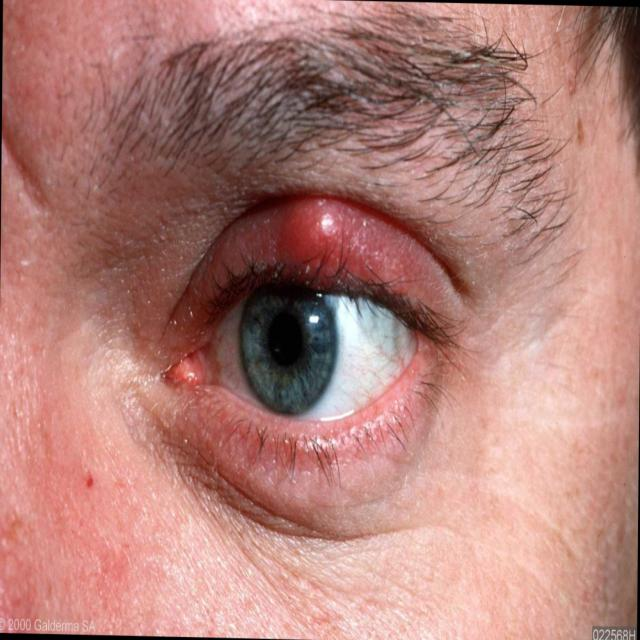Chalazion: (175, 184, 465, 499)
